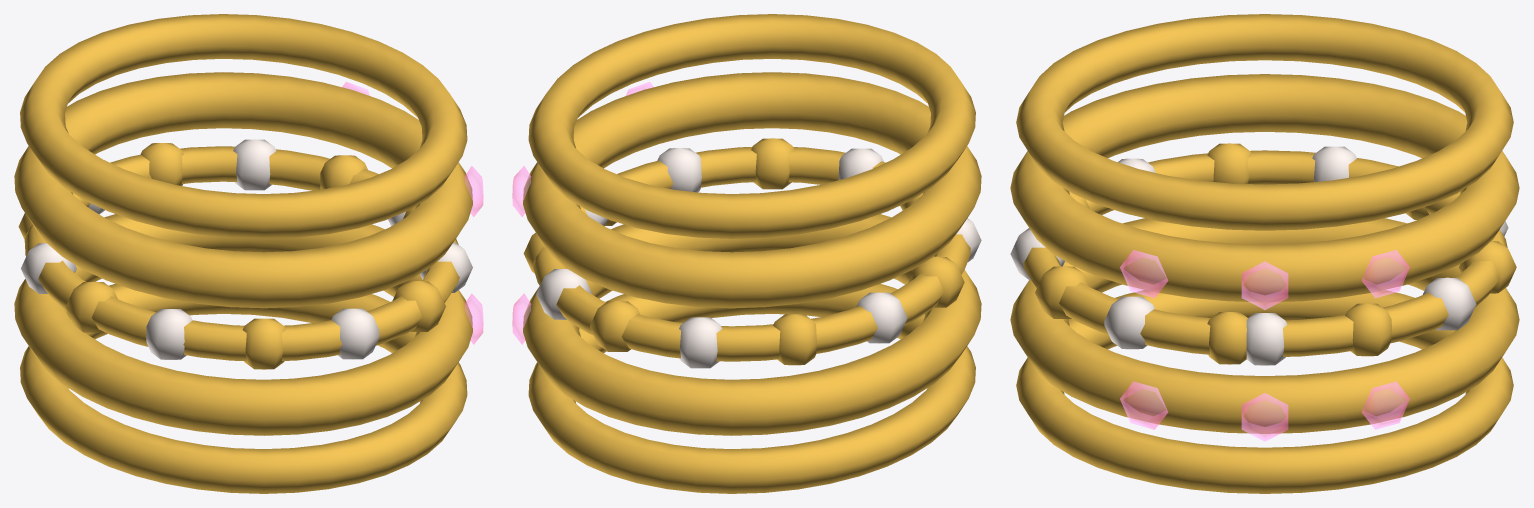
File: bangle_stack.glb
3 renders of one model, left to right at view 1: azimuth 30°, elevation 25°; view 2: azimuth 150°, elevation 25°; view 3: azimuth 270°, elevation 25°, orthographic. The views are drawn at different scales.
Parts seen in each view (by area): view 1: bangle_stack; view 2: bangle_stack; view 3: bangle_stack.
Boxes of the visible parts, box(x1,y1,x2,y2) form: bangle_stack: box(14, 14, 483, 493); bangle_stack: box(512, 14, 981, 493); bangle_stack: box(1010, 14, 1519, 493).
Bounding box in the file's own units: 0.0487 × 0.0342 × 0.0526.
